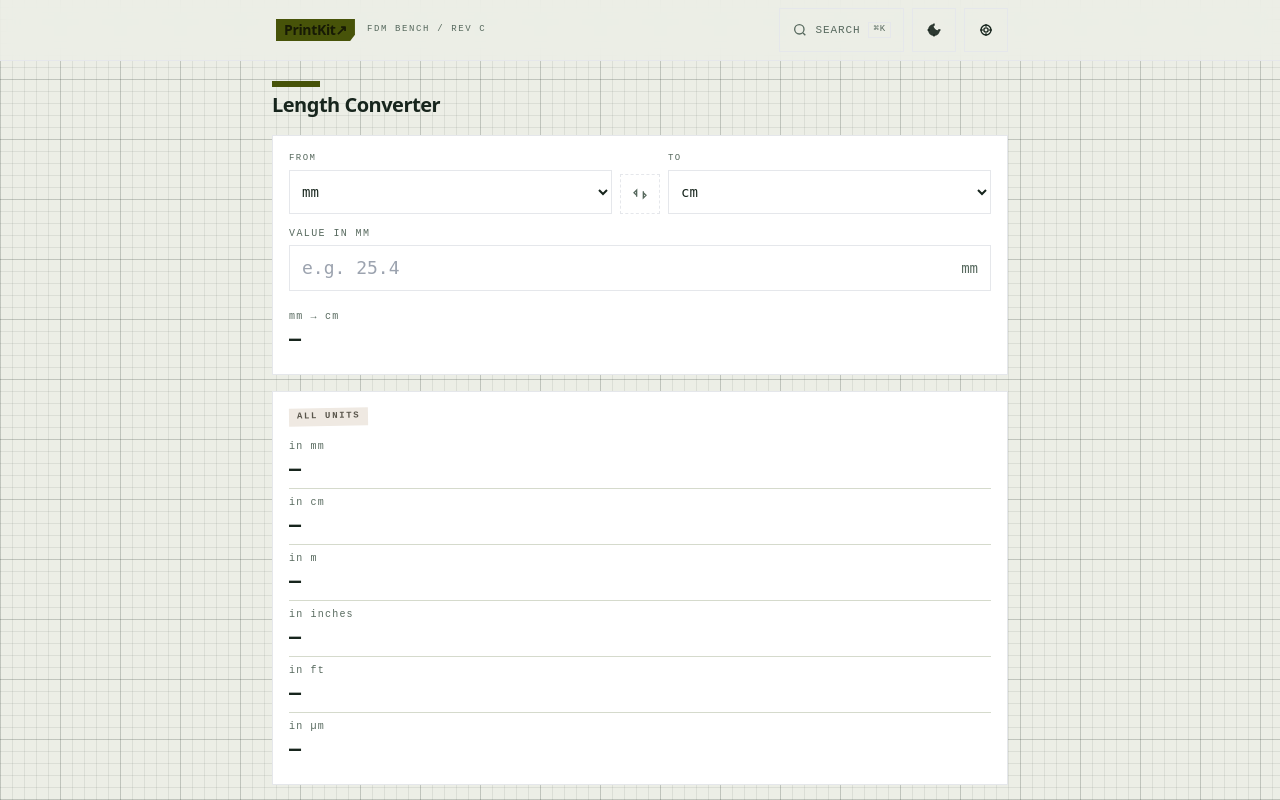
smoke flow 1: length converter is reachable and computes live › 25.4 mm input shows 1 inch result
The width and height of the screenshot is (1280, 800).
Type "25.4" into the field labelled "VALUE IN MM mm" at (620, 268), box [290,246,949,290]
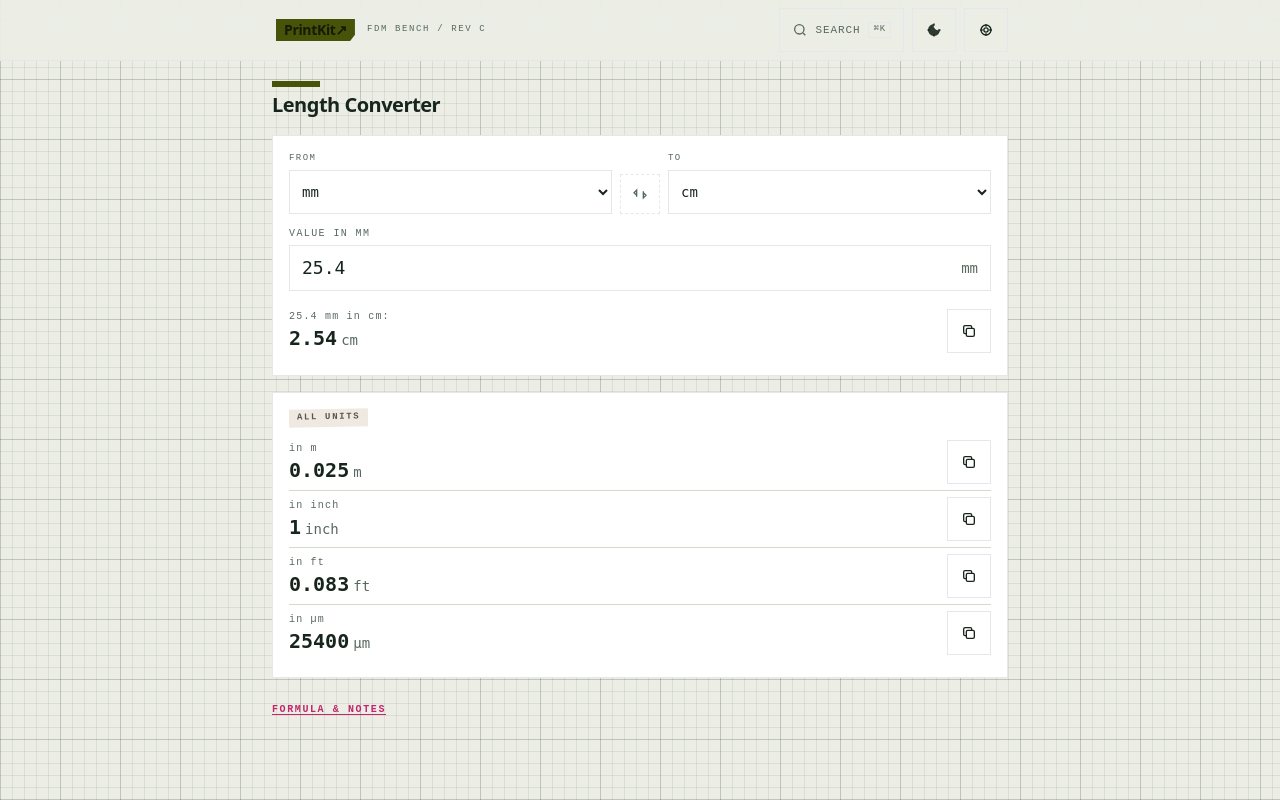
Now the text "1inch" is shown, box [289,512,339,540]
Now the text "2.54cm" is shown, box [289,326,358,350]
